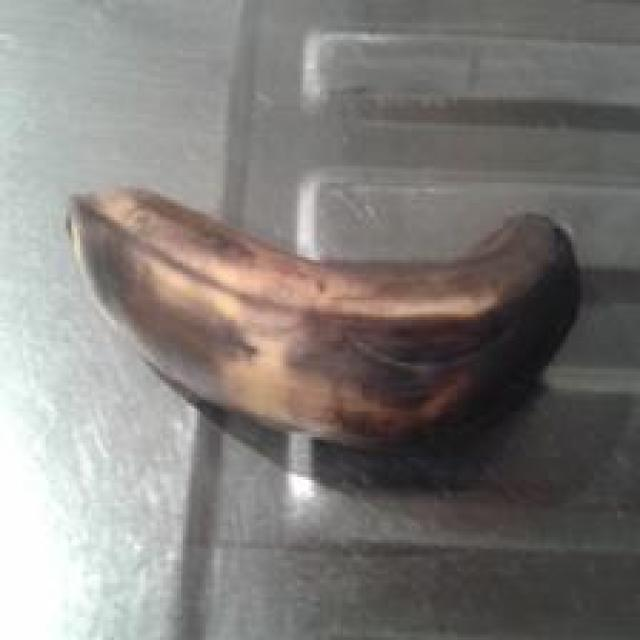Rotten_Banana: (40, 130, 619, 486)
